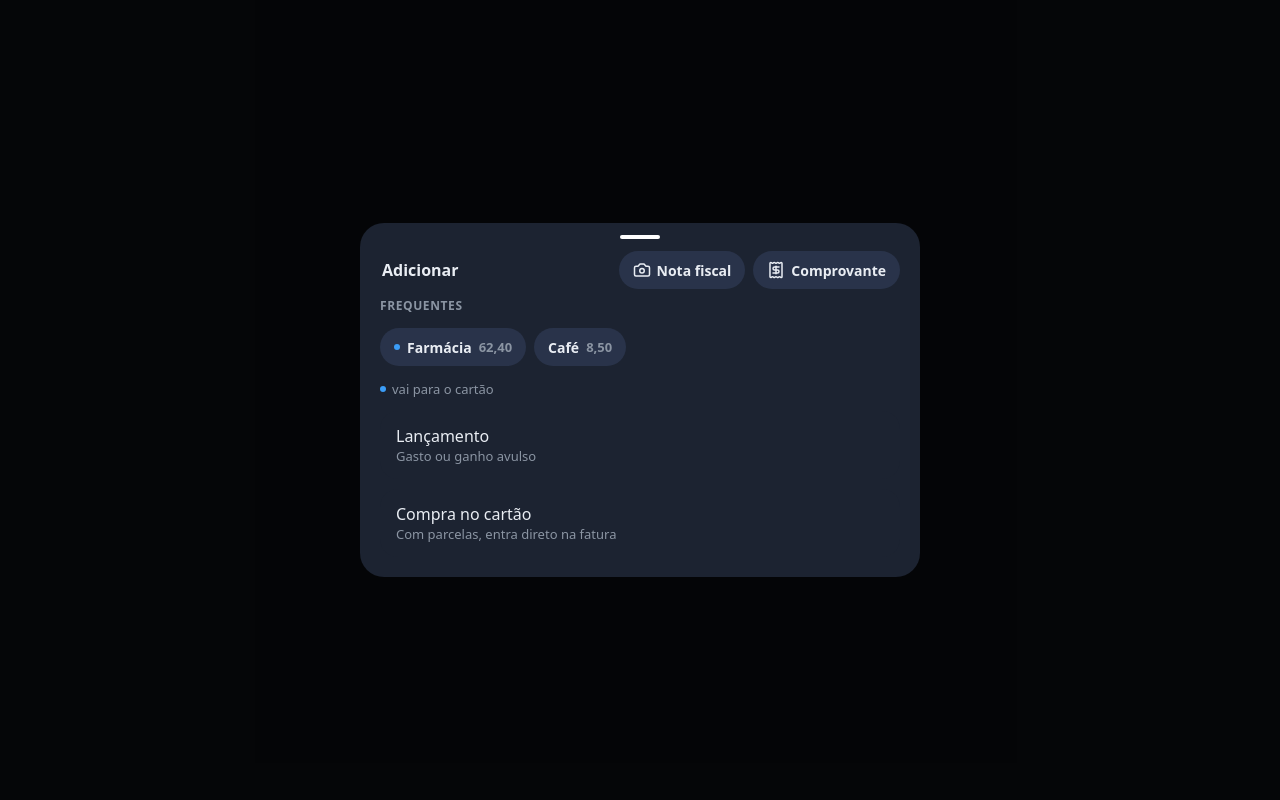
Test case: chip de cartão abre o formulário preenchido, sem escolher cartão
The image size is (1280, 800).
Click the button "Farmácia 62,40" at [453, 347], box [380, 328, 526, 366]
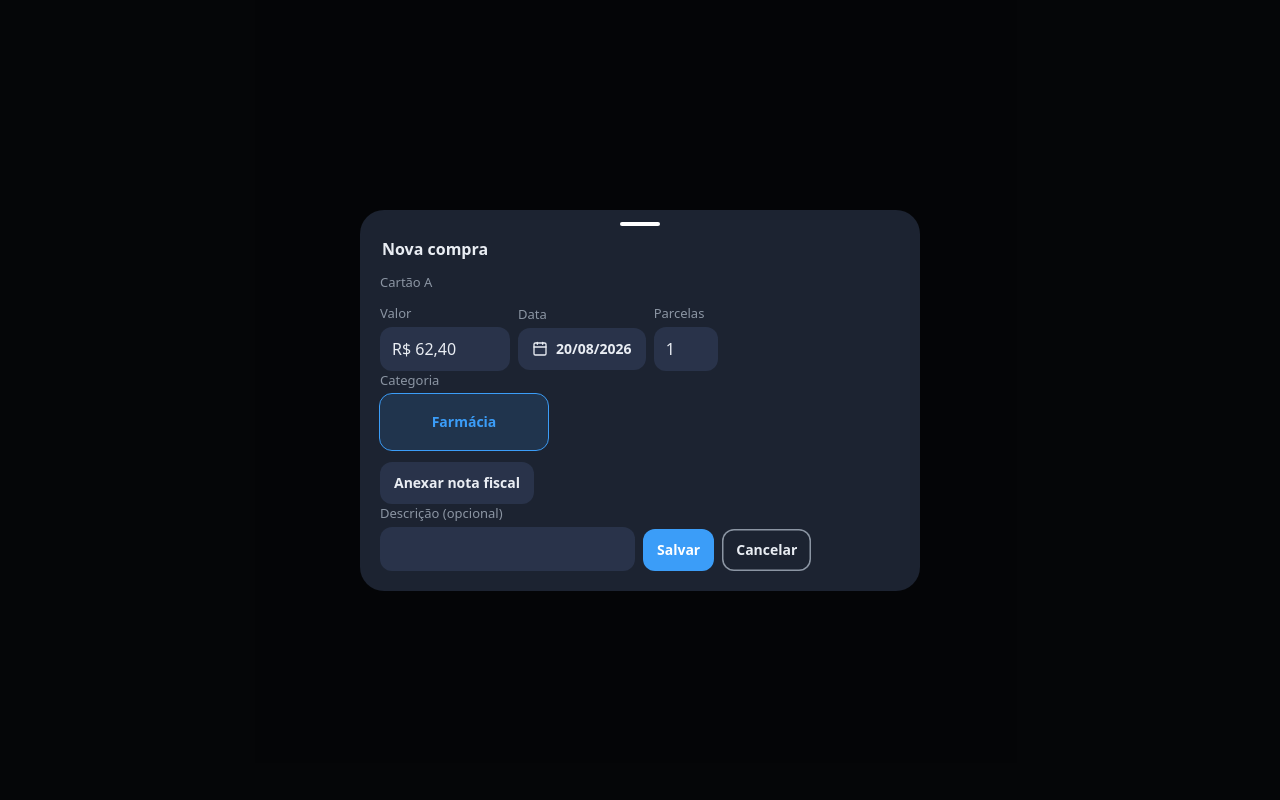
Expected: the heading "Nova compra" is shown, [382, 238, 488, 260]
